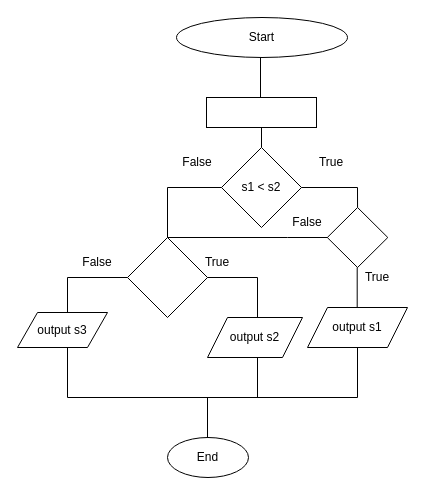
This 425x495 diagram has some shape labels left out. The centre of each missing label's shape, as x and y in pixels:
s1 < s3: the point at 357,237
s2 < s3: the point at 167,277
string s1, string s2, string s3: the point at 261,112
